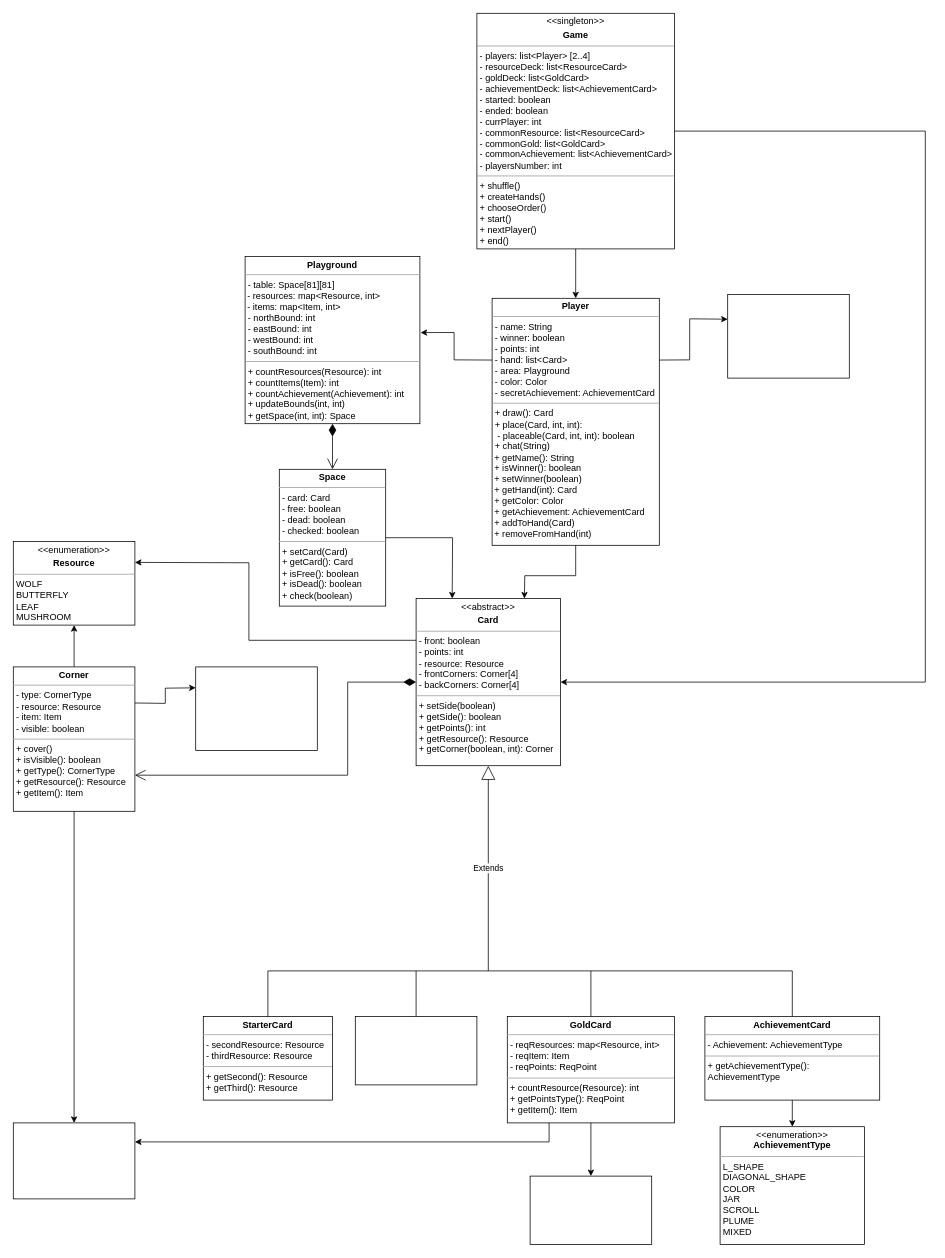
The diagram is 945 pixels wide and 1258 high, and some of its shapes have lost their labels. Here are the shapes that lost their labels. From the top down, the centre of each, then its label:
At point (788, 336): "<<enumeration>> Color RED BLUE GREEN YELLOW".
At point (256, 708): "<<enumeration>> CornerType RESOURCE ITEM FREE DEAD".
At point (416, 1050): "ResourceCard".
At point (74, 1160): "<<enumeration>> Item JAR SCROLL PLUME".
At point (590, 1209): "<<enumeration>> ReqPoint CORNER ITEM".
